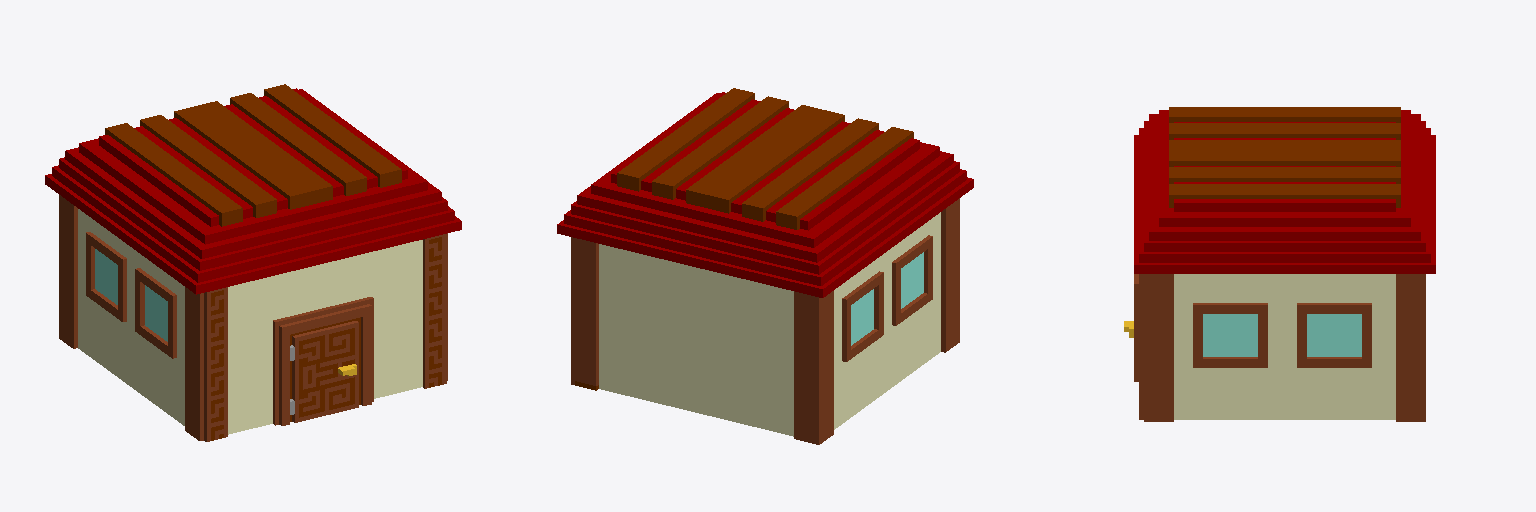
3 renders of one model, left to right at view 1: azimuth 30°, elevation 25°; view 2: azimuth 150°, elevation 25°; view 3: azimuth 270°, elevation 25°, orthographic.
Bounding box in the file's own units: 62 × 47 × 63.
Materials: 1 (1 with a texture image).